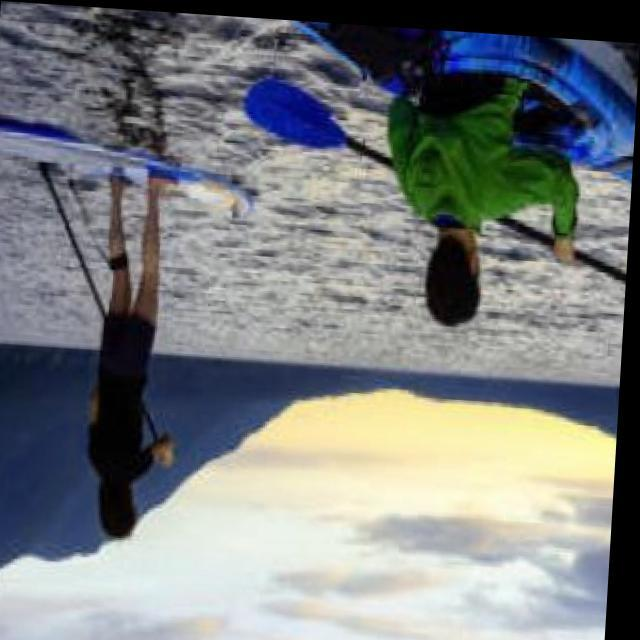kayak: (434, 23, 638, 174), (0, 122, 253, 210)
